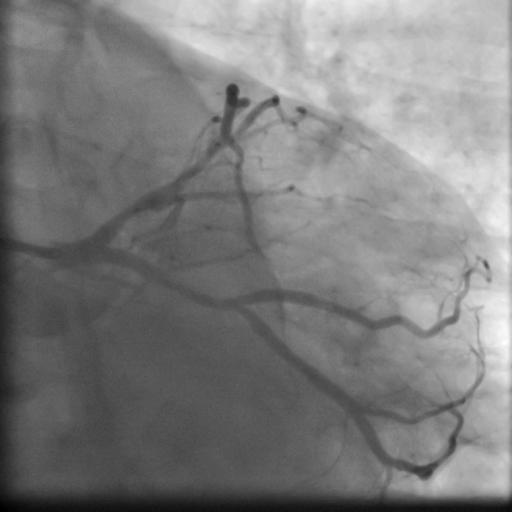Stenosis: (112, 197, 146, 223)
